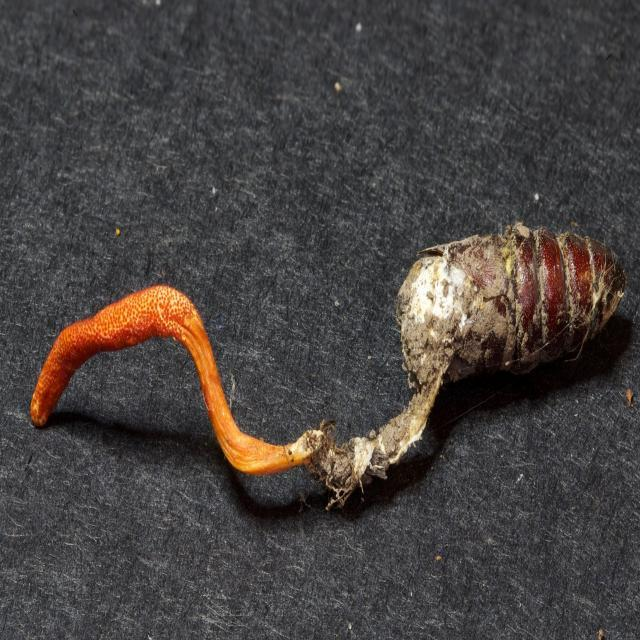Cordyceps militaris: (30, 233, 625, 514)
